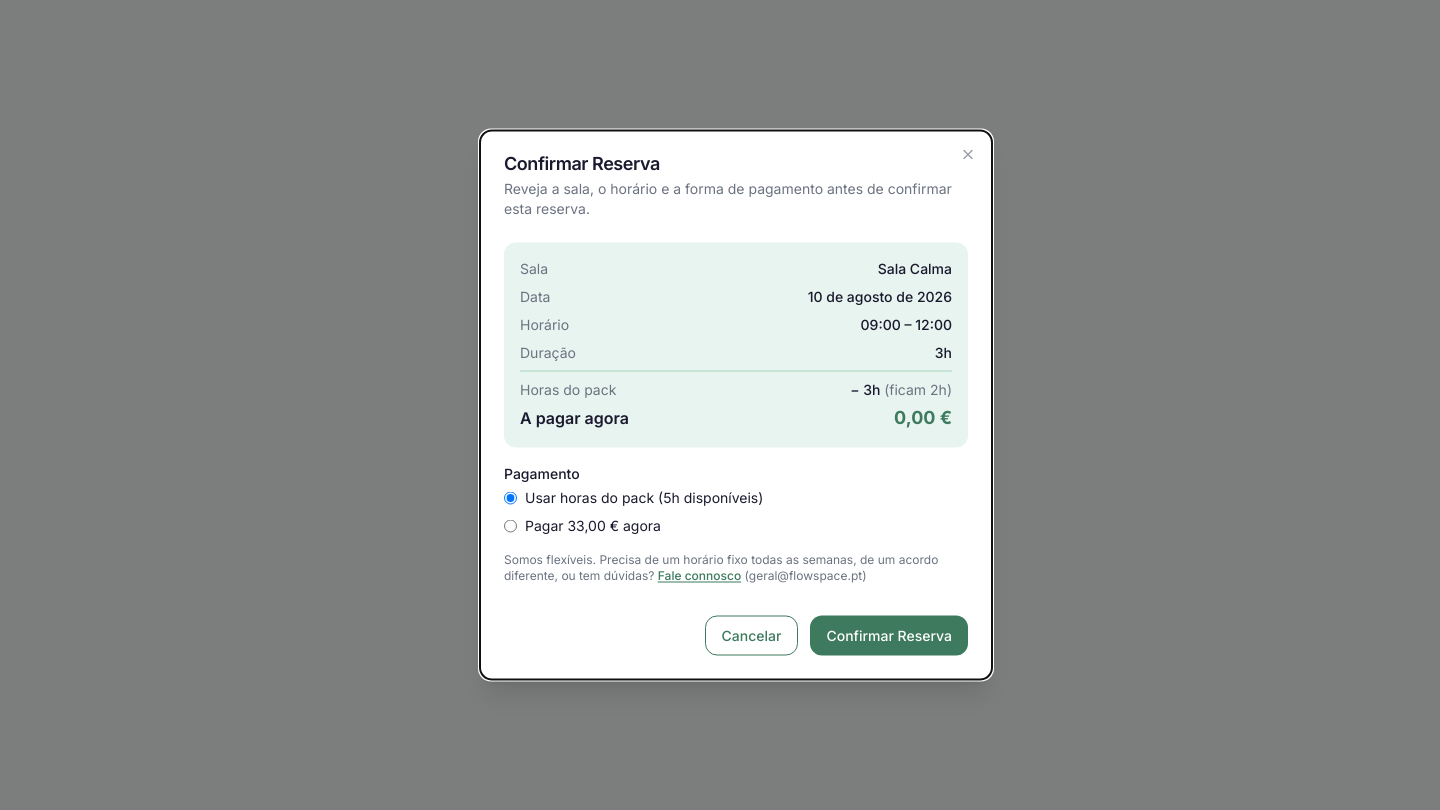
Scenario: BookingModal package redemption (Epic 2.4) › reads a 409 on the package path as missing hours, not a taken slot
Expected: the radio button labelled "Usar horas do pack (5h disponíveis)" is shown, [504,491,517,504]
Click the button "Confirmar Reserva" at (889, 636), box [810,616,968,656]
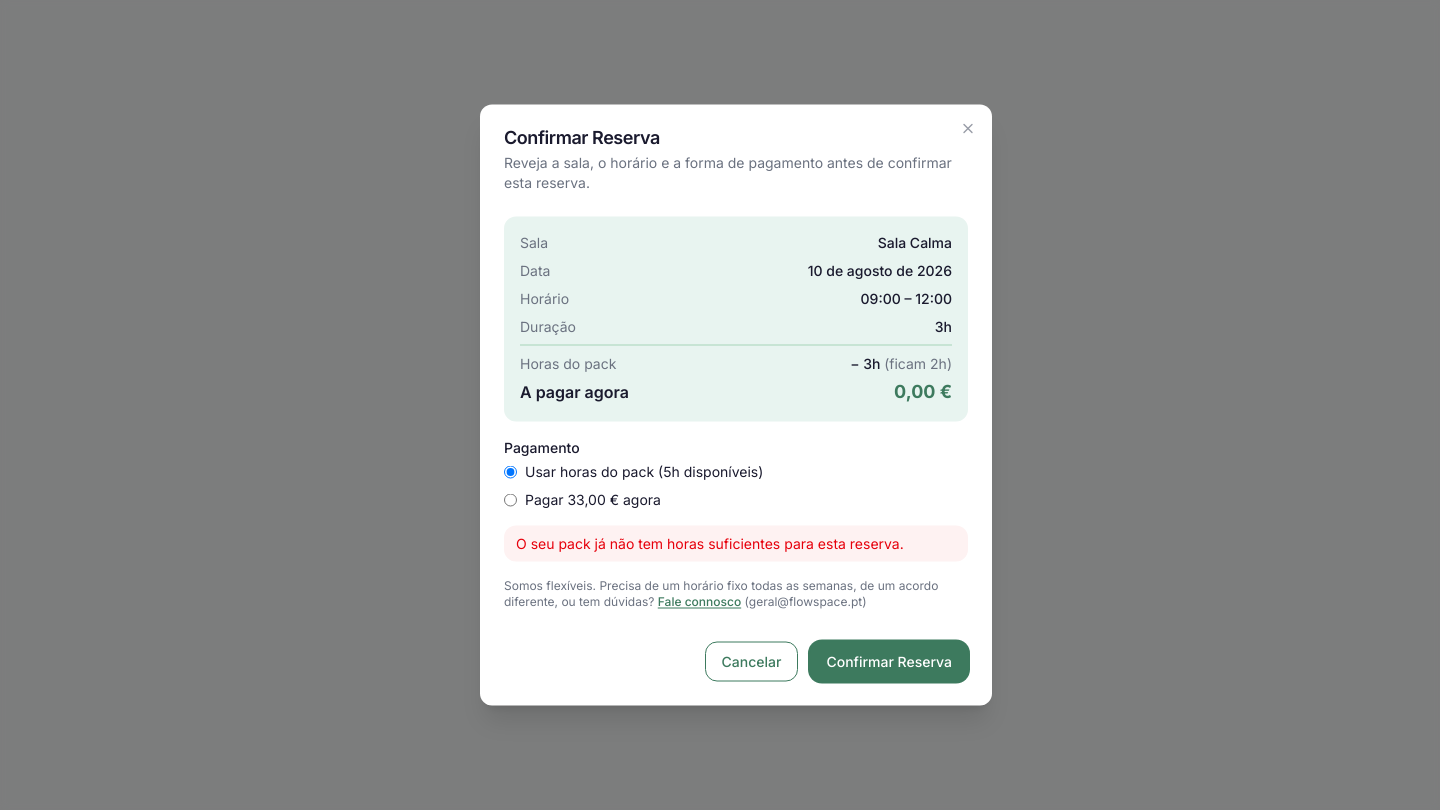
Expected: the message does not show "horário já está reservado", [504,526,968,562]
Now the message shows "horas suficientes", box [516,534,904,552]
